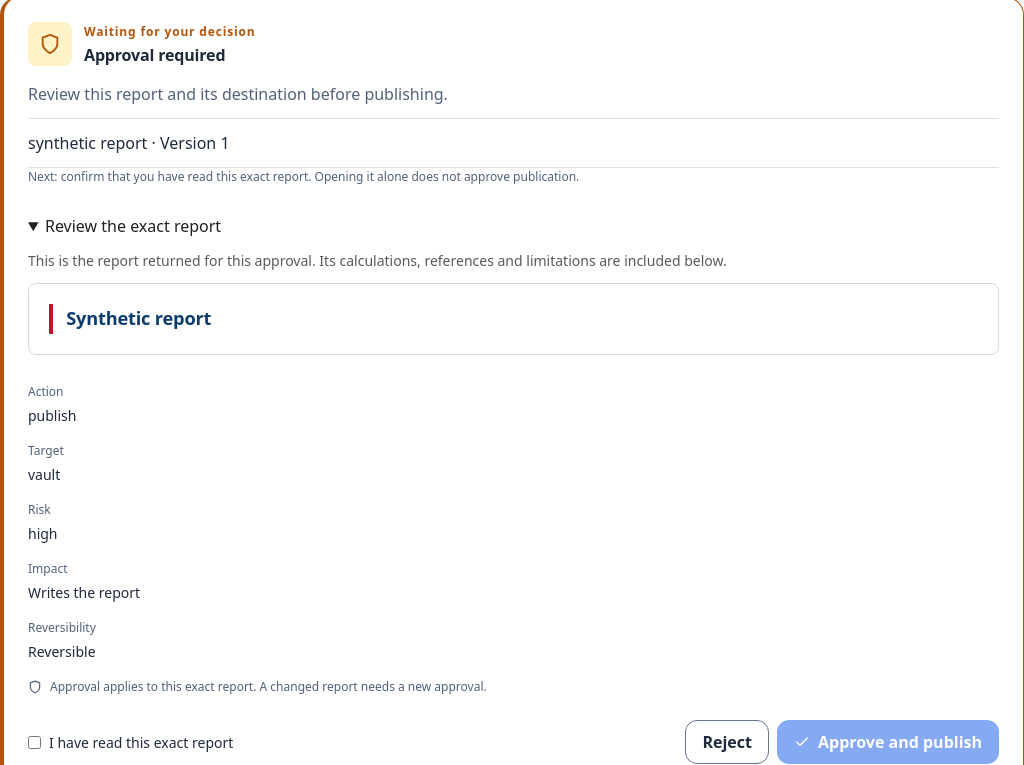
approval card › refreshes a changed destination without publishing or carrying old consent
Click the checkbox labelled "I have read this exact report" at (34, 742), box [28, 736, 41, 749]
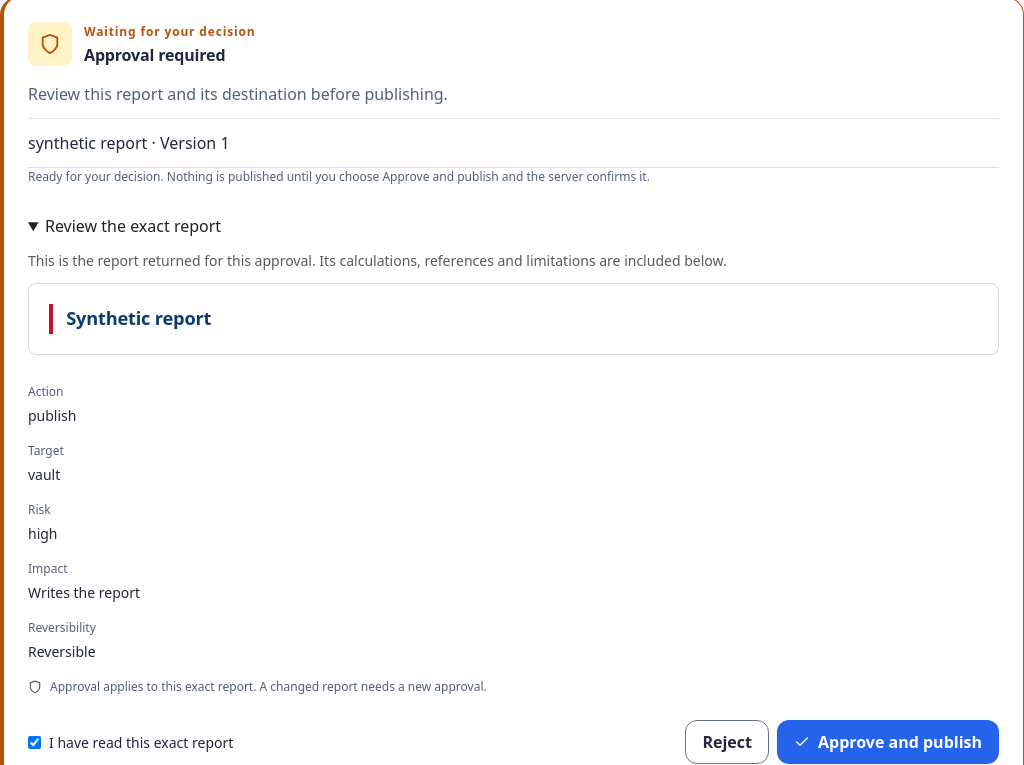
Click the button "Approve and publish" at (888, 742), box [777, 720, 999, 764]
(page scrolled)
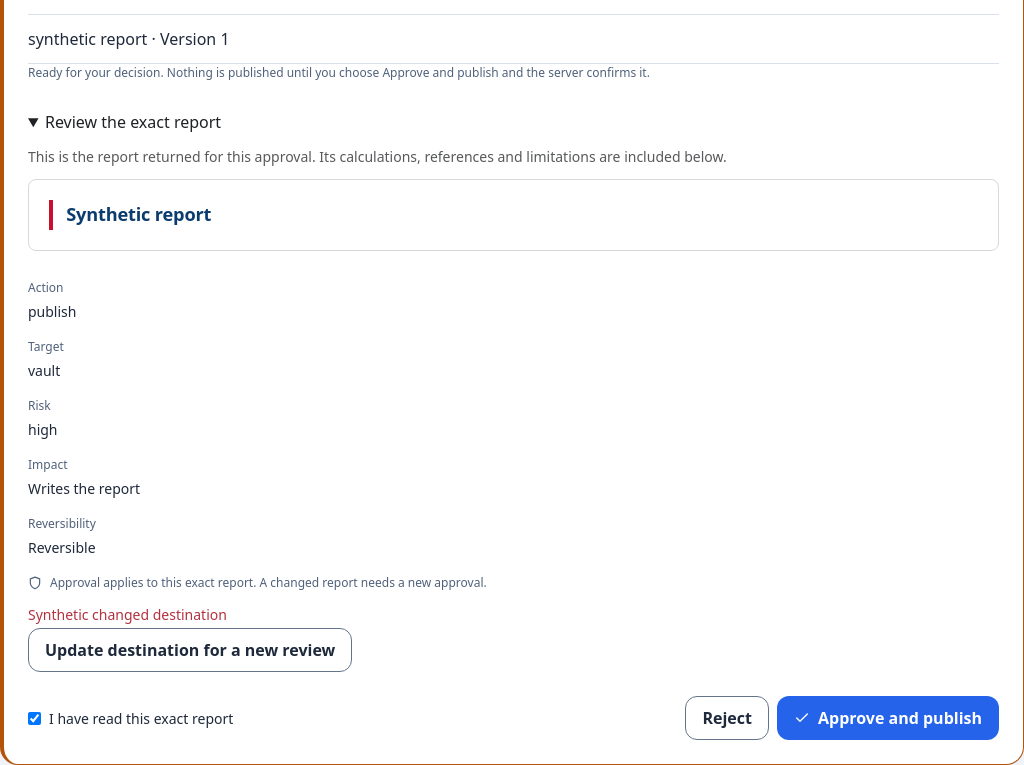
Click the button "Update destination for a new review" at (190, 650), box [28, 628, 352, 672]
(page scrolled)
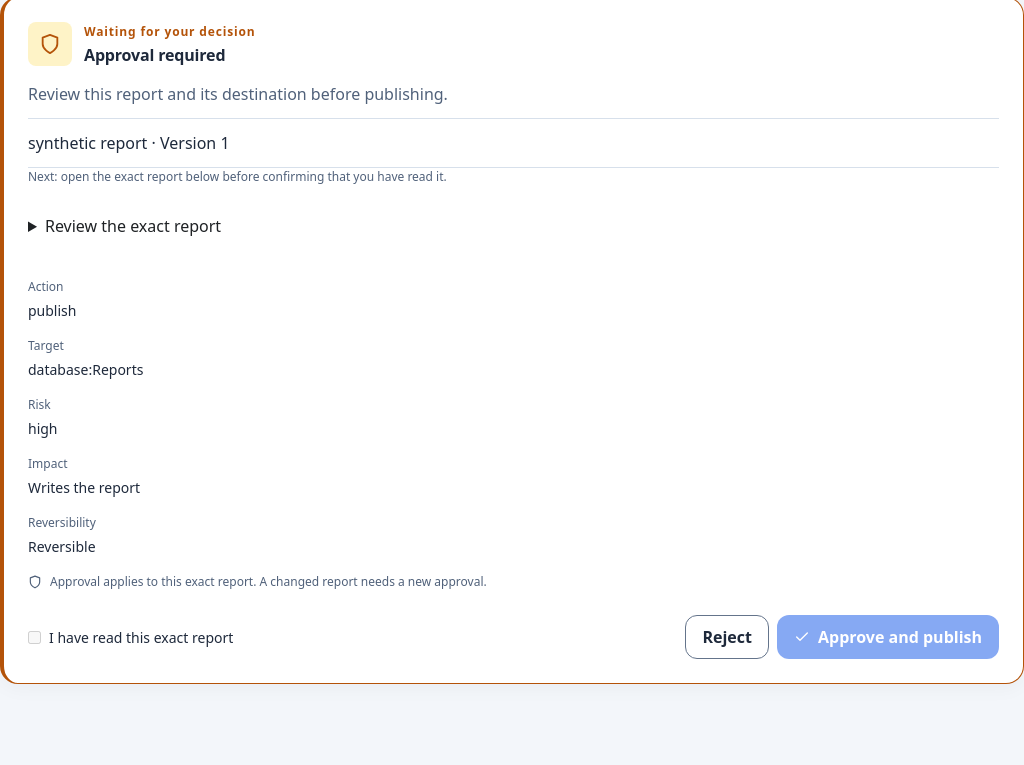
expect the checkbox labelled "I have read this exact report" is not checked: met, box [28, 630, 41, 644]
expect the text "database:Reports" is shown: met, box [28, 360, 143, 379]
expect the button "Approve and publish" is disabled: met, box [777, 615, 999, 659]
